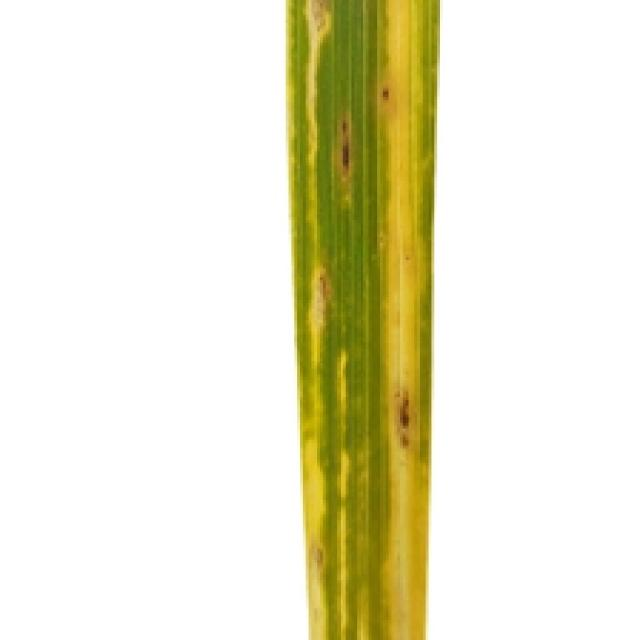Rice___Bacterial_Leaf_Blight: (282, 0, 440, 637)
